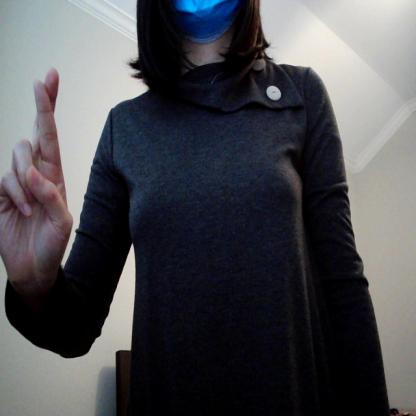right: (3, 67, 78, 284)
